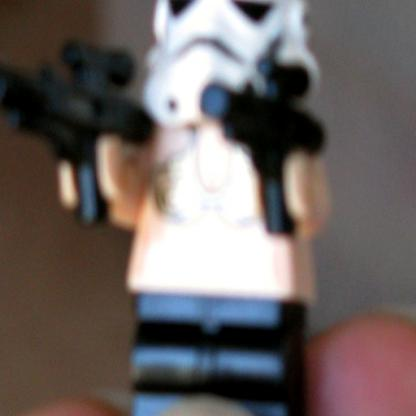gun: (0, 34, 154, 228), (202, 54, 328, 235)
